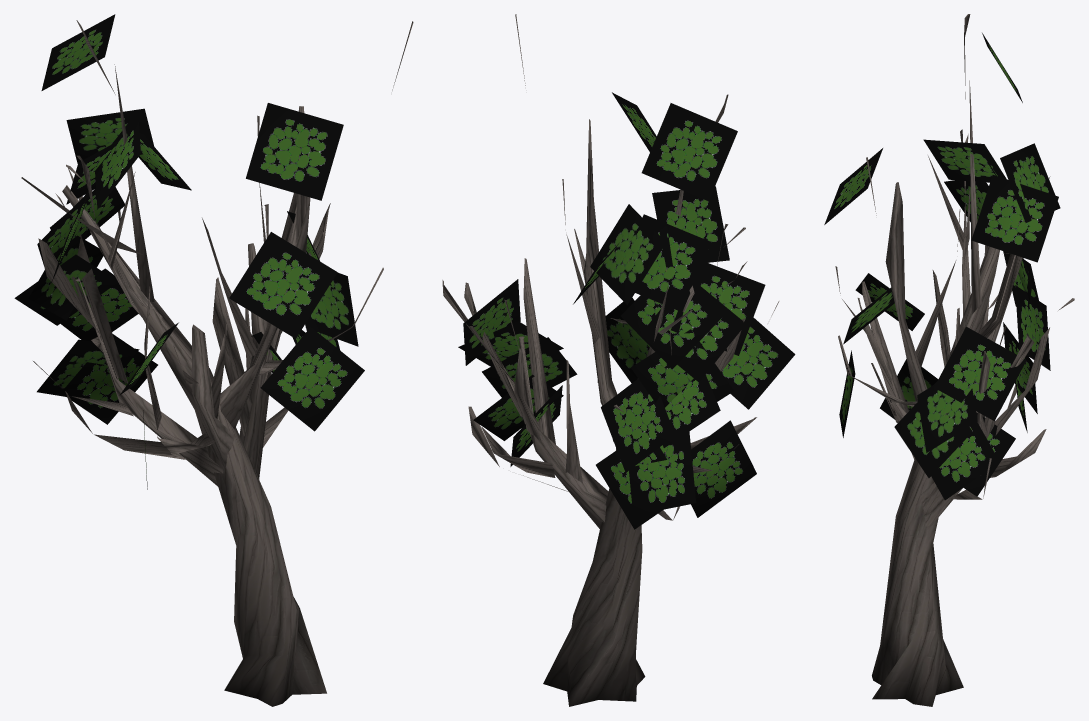
Rendered from twisted_2.glb.
3 views of the same model, side by side, from view 1: azimuth 30°, elevation 25°; view 2: azimuth 150°, elevation 25°; view 3: azimuth 270°, elevation 25° (orthographic). The views are drawn at different scales.
Parts seen in each view (by area): view 1: TwistedTree_2; view 2: TwistedTree_2; view 3: TwistedTree_2.
Boxes of the visible parts, x1,y1,x2,y2 form: TwistedTree_2: [14, 14, 413, 706]; TwistedTree_2: [442, 14, 795, 706]; TwistedTree_2: [824, 14, 1074, 706].
Bounding box in the file's own units: 8.42 × 17.76 × 6.71.
2 materials, 2 textured.
